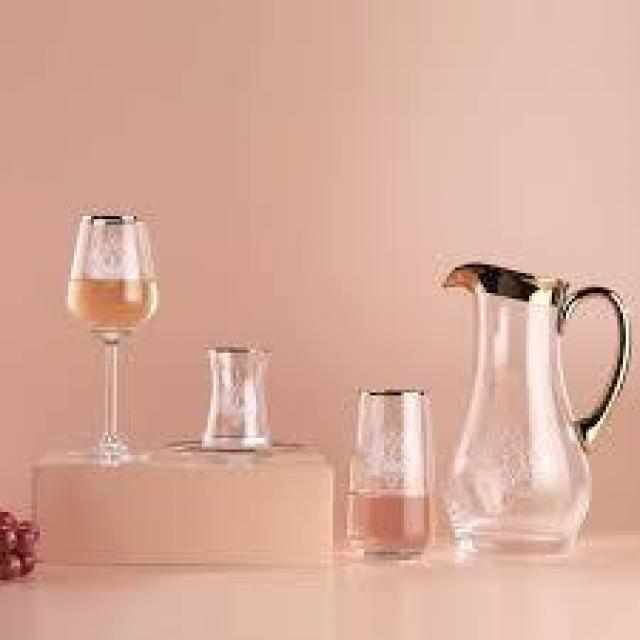non-organic waste: (439, 262, 636, 543), (63, 207, 162, 463), (344, 387, 435, 555), (195, 347, 274, 449)
